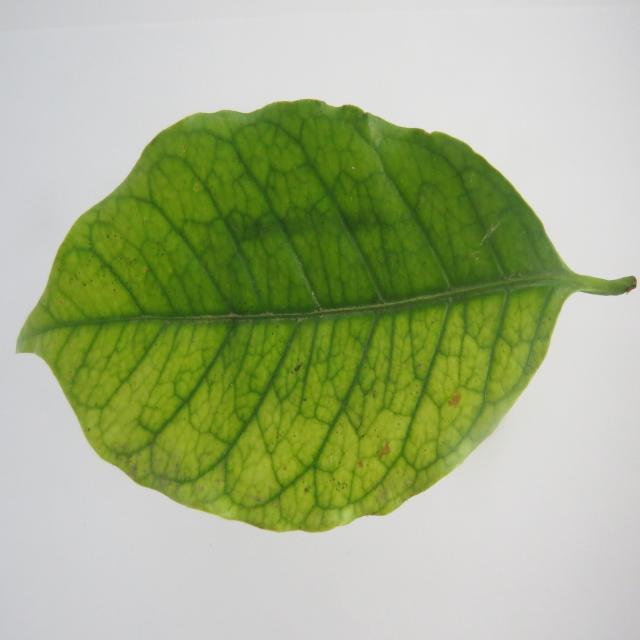DeficienciaNutricional-Hierro: (16, 102, 603, 527)
